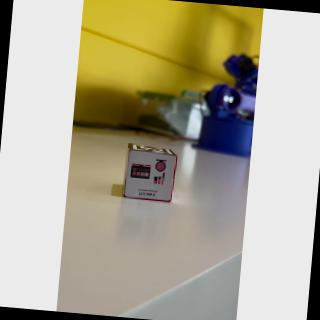Expired_Cosmetic: (125, 155, 176, 204)
